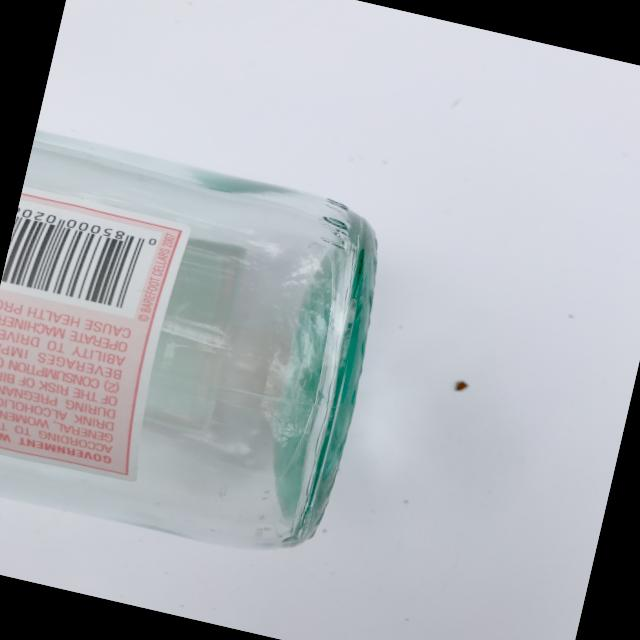Glass: (0, 115, 417, 579)
